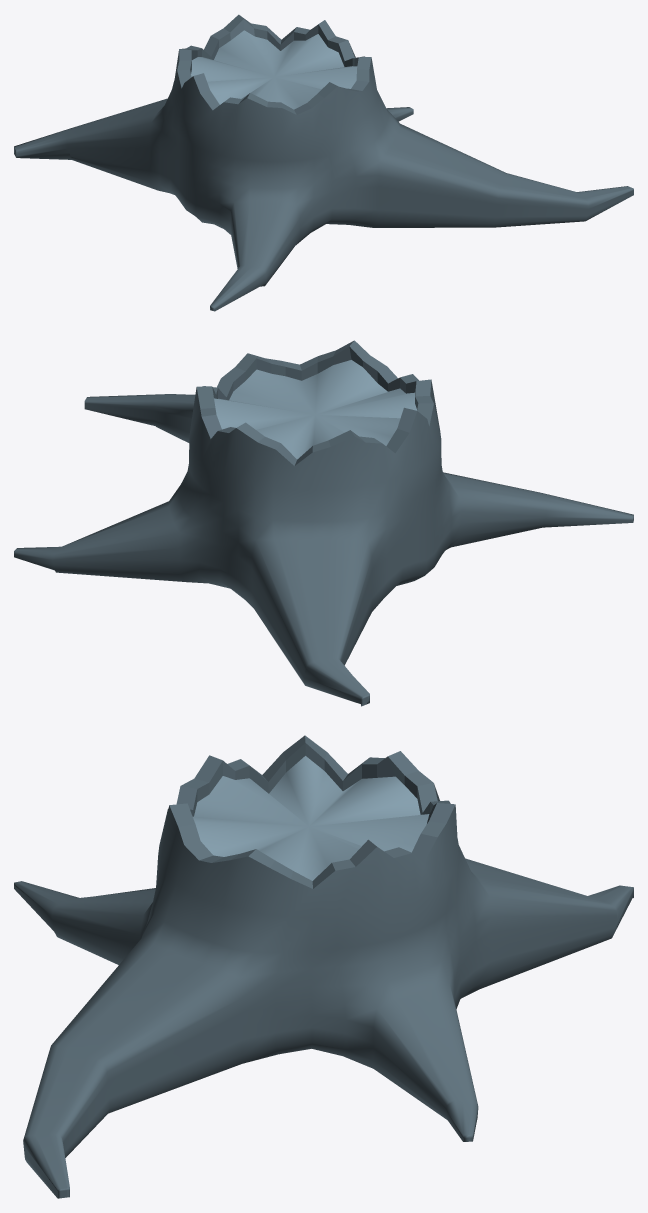
Rendered from Tronco4.fbx.
3 renders of one model, top to bottom at view 1: azimuth 30°, elevation 25°; view 2: azimuth 150°, elevation 25°; view 3: azimuth 270°, elevation 25°, orthographic. The views are drawn at different scales.
Parts seen in each view (by area): view 1: Tronco4; view 2: Tronco4; view 3: Tronco4.
Boxes of the visible parts, x1,y1,x2,y2 form: Tronco4: [14, 14, 633, 311]; Tronco4: [14, 340, 633, 706]; Tronco4: [14, 735, 633, 1198].
Size of the model in its own units: 480 by 157 by 404.
